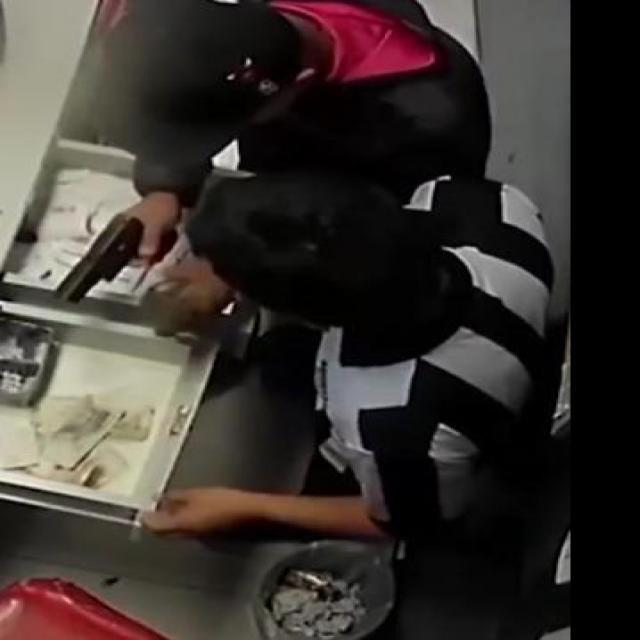weapon: (54, 214, 180, 306)
